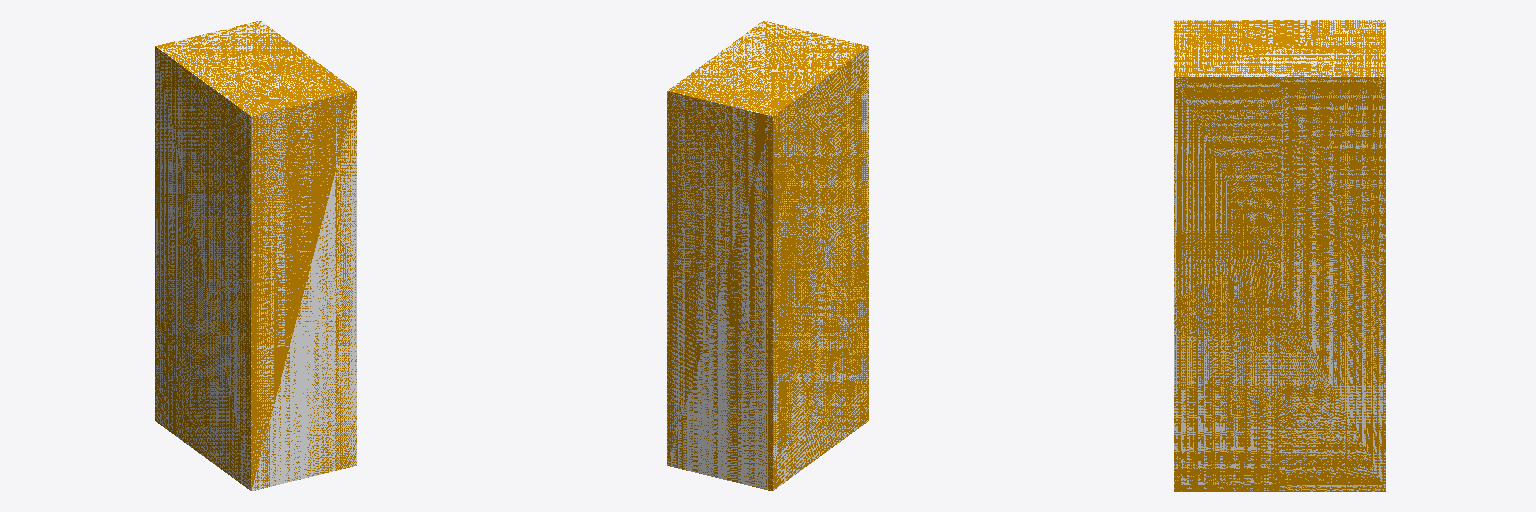
URDF robot description (my_object):
<?xml version="1.0" ?>
<robot name="my_object" static="true">
  <link name="base_link">
  <inertial>
    <mass value="1.37" />
    <origin xyz="0 0 0.0" />
    <inertia ixx="1.0" ixy="0.0" ixz="0.0" iyy="1.0" iyz="0.0" izz="1.0"/>
  </inertial>
  <visual>
   <origin xyz="0 0 0.0" rpy="0 0 0" />
   <geometry>
     <mesh filename="package://cob_gazebo_objects/Media/models/green_tea.dae"/>
   </geometry>
  </visual>
  <collision>
   <origin xyz="0 0 0" rpy="0 0 0" />
   <geometry>
     <box size="0.057 0.091 0.195" />
   </geometry>
  </collision>
  </link>

<gazebo>
	<static>true</static>
</gazebo>

<!--gazebo reference="base_link">
  <mu1>50.0</mu1>
  <mu2>50.0</mu2>
  <kp>1000000.0</kp>
  <kd>1.0</kd>
</gazebo-->
</robot>

--- Facts derived from the render (not from the file) ---
3 views of the same robot in one strip: view 1: azimuth 30°, elevation 25°; view 2: azimuth 150°, elevation 25°; view 3: azimuth 270°, elevation 25° (orthographic).
Robot: my_object — 1 links, 0 joints (none); root link base_link; default pose: all joints at 0.
Visible links, largest first — view 1: base_link; view 2: base_link; view 3: base_link.
Link boxes in pixels (x1,y1,x2,y2): base_link: (155,21,356,490); base_link: (667,21,868,490); base_link: (1174,20,1385,491).
Bounding box of the posed robot: 0.0573 × 0.0905 × 0.1946 m (x, y, z).
Meshes: 1 distinct files referenced, 1 mesh visuals loaded (1 Collada DAE).